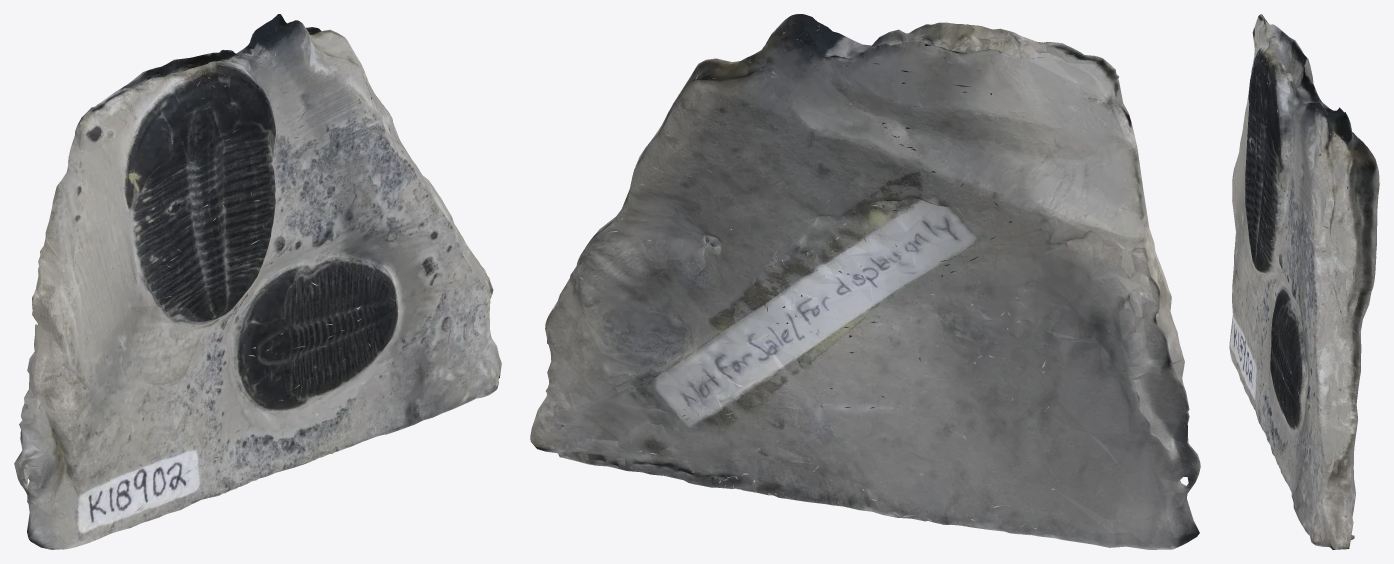
File: Trilobite.glb
3 renders of one model, left to right at view 1: azimuth 30°, elevation 25°; view 2: azimuth 150°, elevation 25°; view 3: azimuth 270°, elevation 25°, orthographic. The views are drawn at different scales.
Visible parts, largest first — view 1: Object_2, Object_3; view 2: Object_2, Object_3; view 3: Object_2, Object_3.
Boxes of the visible parts, left/top/right/bottom form: Object_2: left=14, top=14, right=493, bottom=549; Object_3: left=131, top=20, right=501, bottom=526; Object_2: left=545, top=14, right=1200, bottom=549; Object_3: left=530, top=14, right=1061, bottom=535; Object_2: left=1229, top=14, right=1379, bottom=515; Object_3: left=1241, top=42, right=1378, bottom=549.
Bounding box in the file's own units: 0.1199 × 0.0922 × 0.0343.
Materials: 1 (1 with a texture image).
